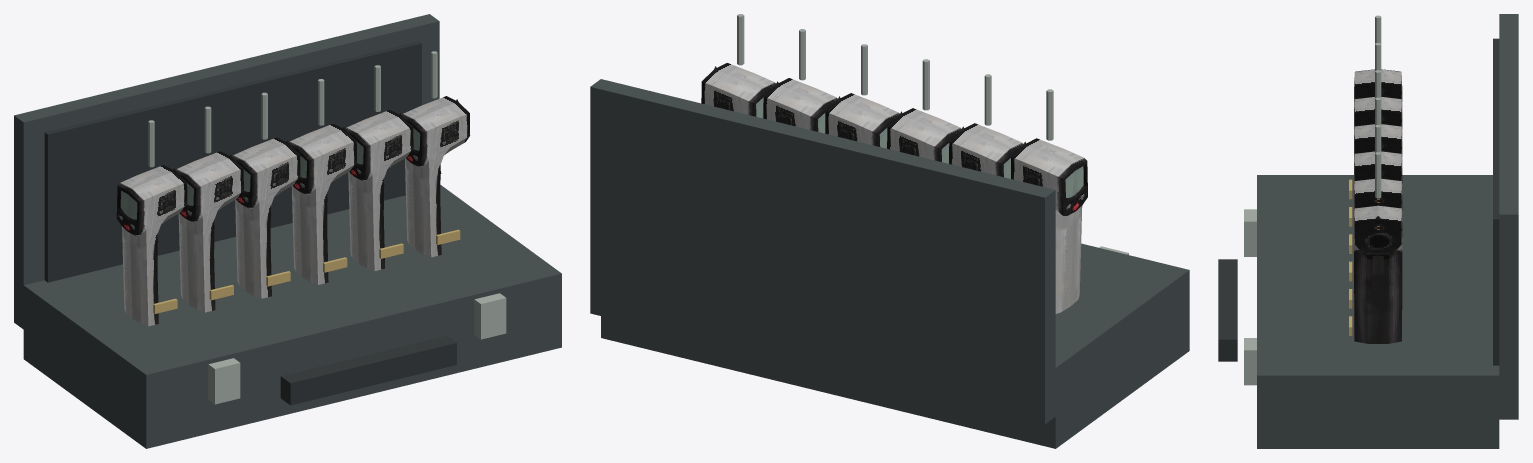
File: blender_thermal_beacon_3.glb
The picture shows the model from 3 angles, left to right: view 1: azimuth 30°, elevation 25°; view 2: azimuth 150°, elevation 25°; view 3: azimuth 270°, elevation 25°; orthographic projection. The views are drawn at different scales.
Visible parts, largest first — view 1: blender_thermal_beacon_3; view 2: blender_thermal_beacon_3; view 3: blender_thermal_beacon_3.
Boxes of the visible parts, x1=… form: blender_thermal_beacon_3: x1=14, y1=14, x2=561, y2=448; blender_thermal_beacon_3: x1=590, y1=14, x2=1189, y2=448; blender_thermal_beacon_3: x1=1218, y1=14, x2=1518, y2=448.
Size of the model in its own units: 0.294 by 0.18 by 0.186.
1 material, 1 textured.
